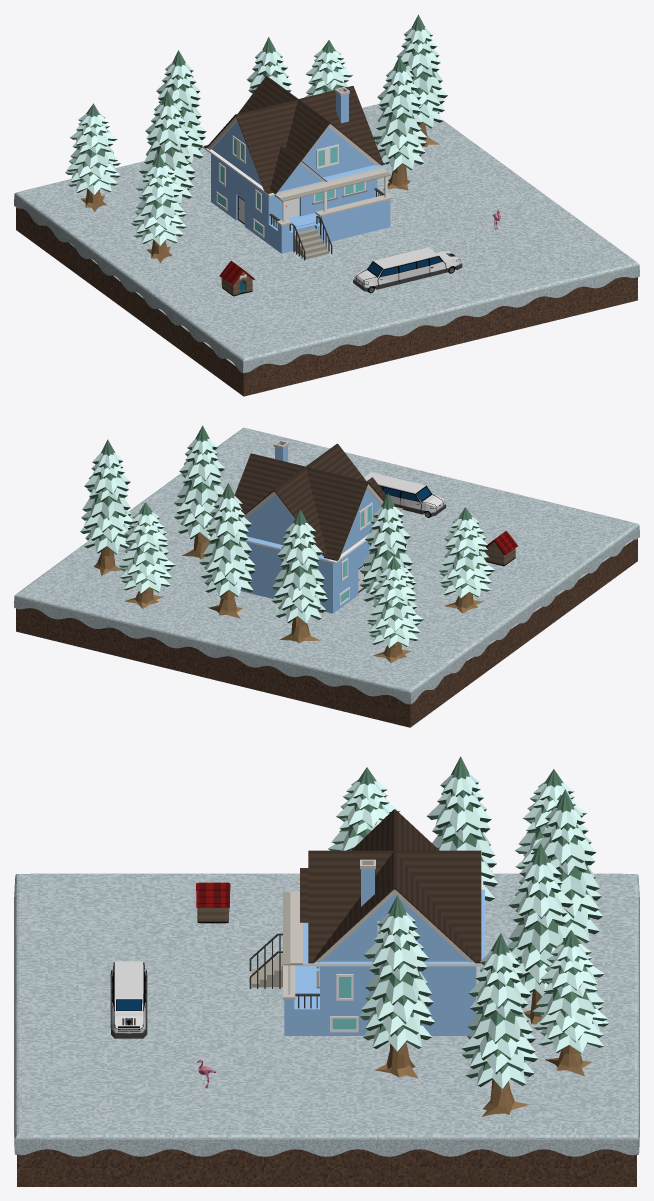
3 views of the same model, one above another, from view 1: azimuth 30°, elevation 25°; view 2: azimuth 150°, elevation 25°; view 3: azimuth 270°, elevation 25° (orthographic). The views are drawn at different scales.
Parts seen in each view (by area): view 1: Cube.003, Cube.1594, VEHICLES_LIMOUSINE, OBJRANDOM_DOGHOUSE; view 2: Cube.003, Cube.1594, VEHICLES_LIMOUSINE, OBJRANDOM_DOGHOUSE; view 3: Cube.003, Cube.1594, VEHICLES_LIMOUSINE, OBJRANDOM_DOGHOUSE.
Boxes of the visible parts, <box> form: Cube.003: <box>14,14,639,396</box>; Cube.1594: <box>202,76,393,260</box>; VEHICLES_LIMOUSINE: <box>353,247,462,293</box>; OBJRANDOM_DOGHOUSE: <box>219,261,254,296</box>; Cube.003: <box>14,425,639,727</box>; Cube.1594: <box>235,440,405,613</box>; VEHICLES_LIMOUSINE: <box>364,472,446,517</box>; OBJRANDOM_DOGHOUSE: <box>485,531,517,566</box>; Cube.003: <box>14,756,639,1186</box>; Cube.1594: <box>249,809,484,1035</box>; VEHICLES_LIMOUSINE: <box>110,961,147,1038</box>; OBJRANDOM_DOGHOUSE: <box>196,882,230,923</box>.
Bounding box in the file's own units: 4040 × 1700 × 4040.
Materials: 37 (3 with a texture image).
